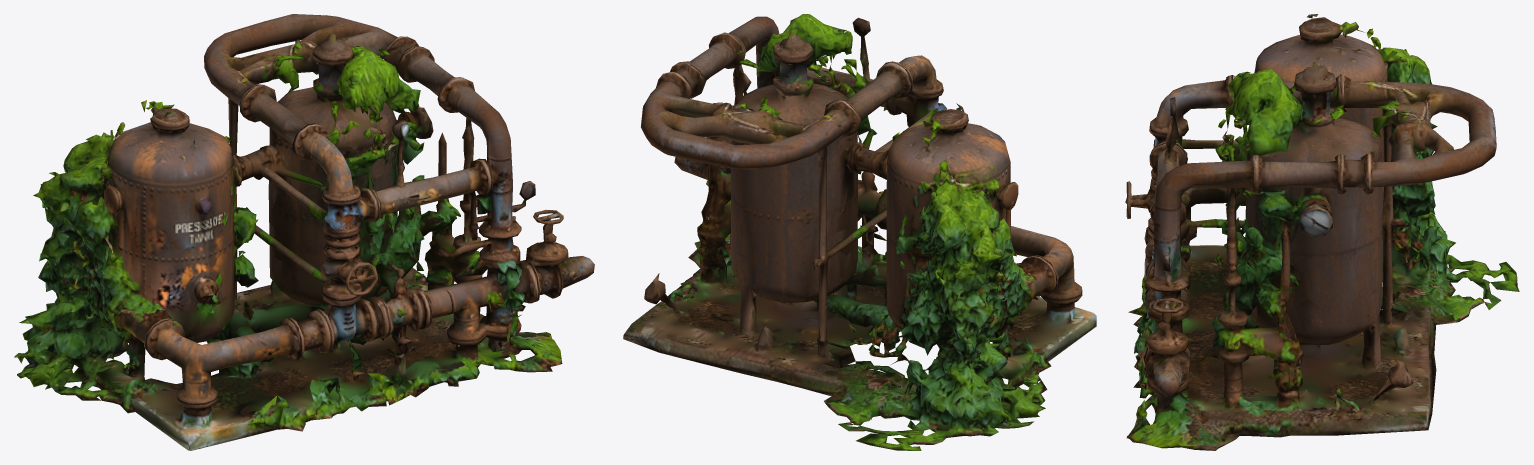
Rendered from feijiujixie_02.fbx.
3 renders of one model, left to right at view 1: azimuth 30°, elevation 25°; view 2: azimuth 150°, elevation 25°; view 3: azimuth 270°, elevation 25°, orthographic. The views are drawn at different scales.
Parts seen in each view (by area): view 1: mesh_node; view 2: mesh_node; view 3: mesh_node.
Boxes of the visible parts, left/top/right/bottom form: mesh_node: left=14, top=14, right=594, bottom=450; mesh_node: left=623, top=14, right=1096, bottom=450; mesh_node: left=1125, top=14, right=1519, bottom=450.
Size of the model in its own units: 1.94 by 1.23 by 1.37.
